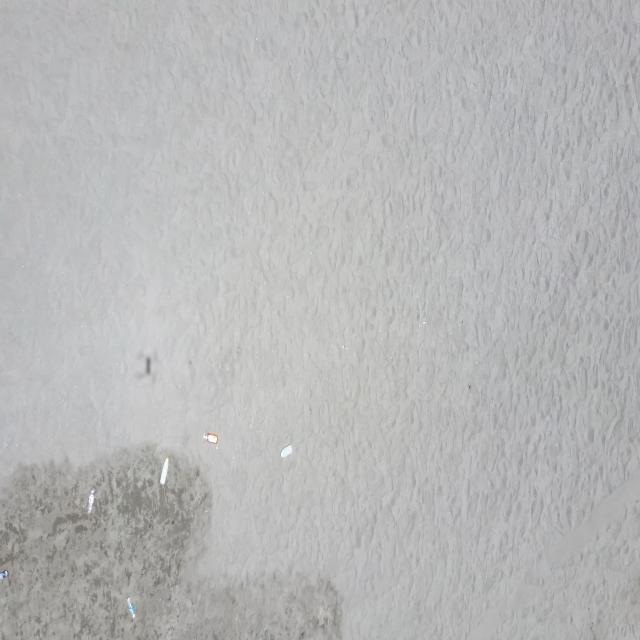Garbage: (136, 352, 155, 379), (160, 456, 167, 484), (87, 487, 94, 512), (128, 596, 135, 619), (203, 432, 216, 444), (280, 444, 292, 456), (0, 569, 8, 580)
